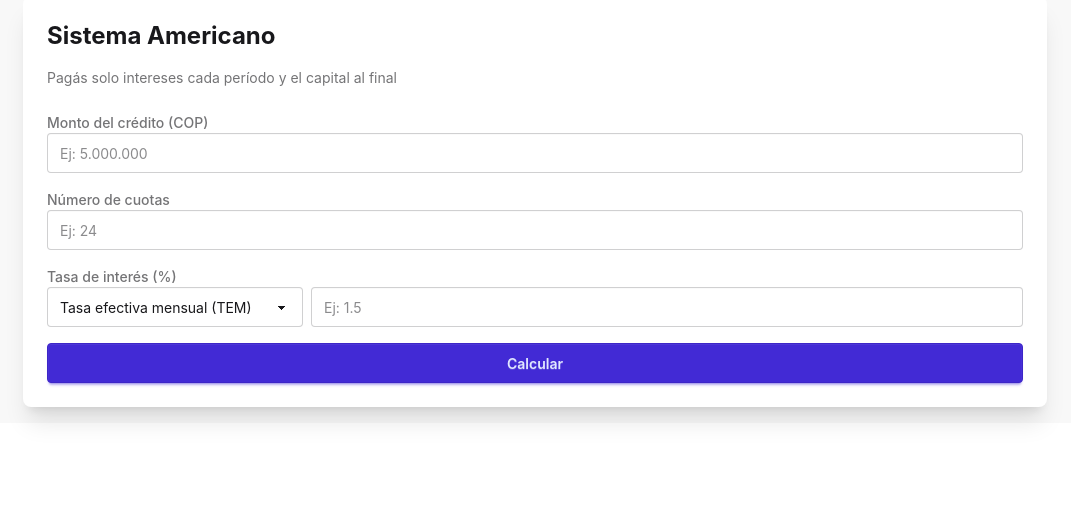
Scenario: AmericanCreditCalculator › validation › shows an error when all required fields are empty
The width and height of the screenshot is (1071, 507).
Step 1. Click the button with test id "calculate-btn" → point(535, 363), box [47,343,1023,383]
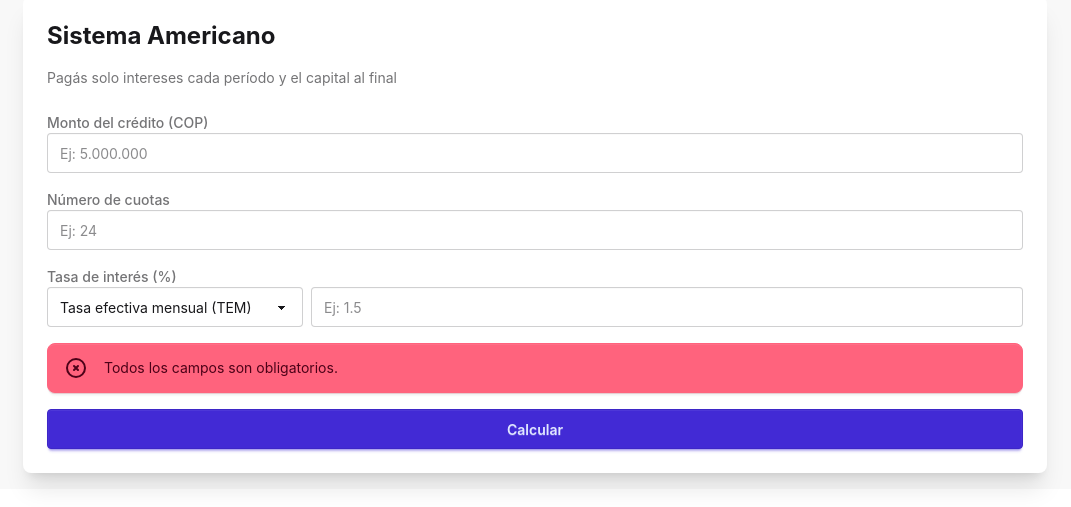
Result: the text "obligatorios" is shown at [104,359,338,376]
